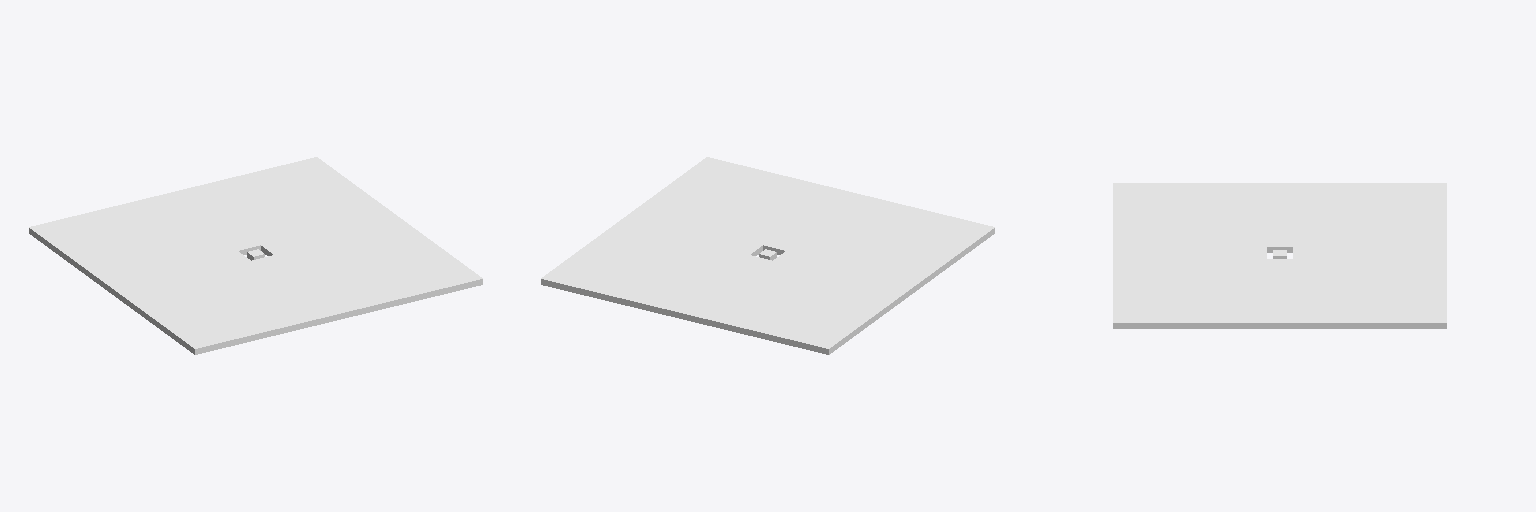
File: Shower_Floor.obj
The picture shows the model from 3 angles: view 1: azimuth 30°, elevation 25°; view 2: azimuth 150°, elevation 25°; view 3: azimuth 270°, elevation 25°; orthographic projection.
Visible parts, largest first — view 1: object 1; view 2: object 1; view 3: object 1.
Part boxes in pixels (bbox=[...]): object 1: bbox=[29, 157, 482, 354]; object 1: bbox=[541, 157, 994, 354]; object 1: bbox=[1113, 183, 1446, 328].
Size of the model in its own units: 5 by 0.1 by 5.